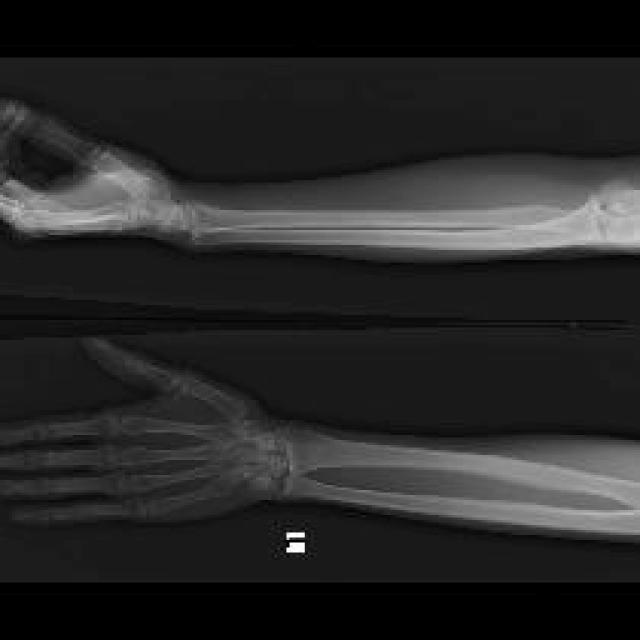normal: (2, 339, 636, 538), (2, 102, 638, 261)
